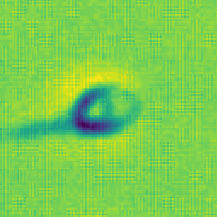normal: (1, 92, 70, 162)
